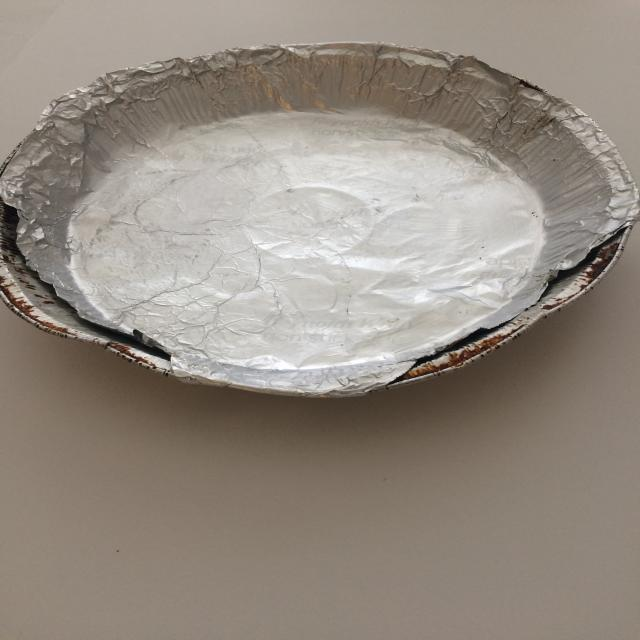metal: (3, 41, 640, 400)
